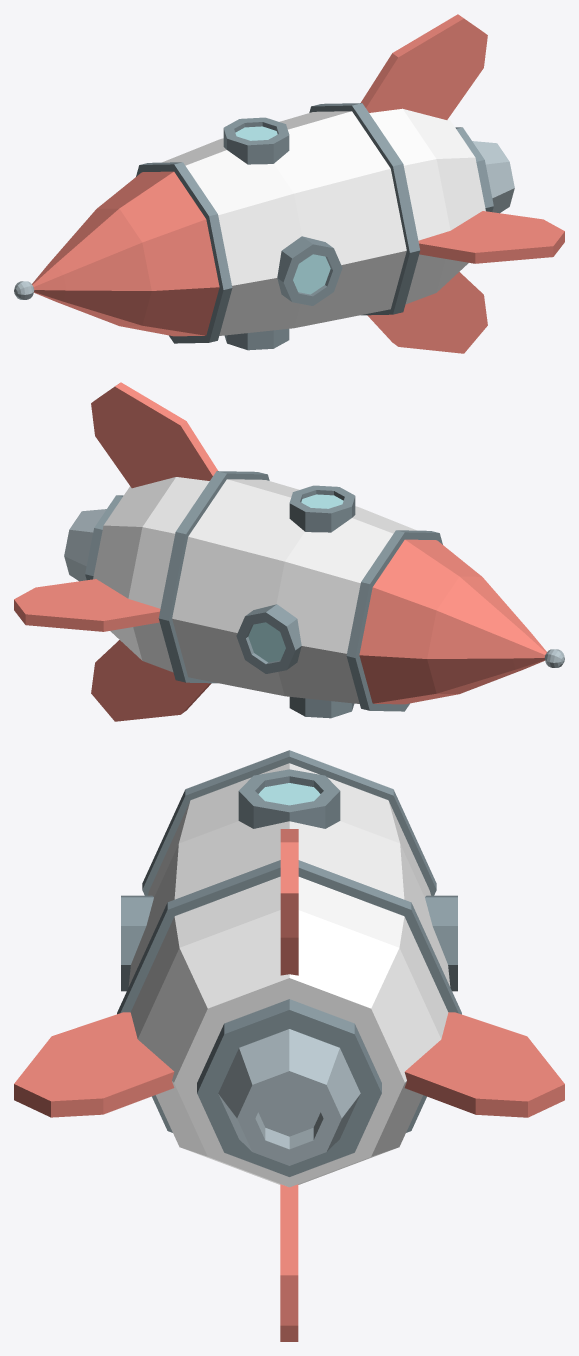
File: rocketship.fbx
3 renders of one model, top to bottom at view 1: azimuth 30°, elevation 25°; view 2: azimuth 150°, elevation 25°; view 3: azimuth 270°, elevation 25°, orthographic. The views are drawn at different scales.
Parts seen in each view (by area): view 1: Rocket_Ship_01; view 2: Rocket_Ship_01; view 3: Rocket_Ship_01.
Boxes of the visible parts, x1,y1,x2,y2 form: Rocket_Ship_01: [14, 14, 564, 353]; Rocket_Ship_01: [14, 382, 564, 721]; Rocket_Ship_01: [14, 750, 564, 1341].
Bounding box in the file's own units: 992 × 659 × 659.
